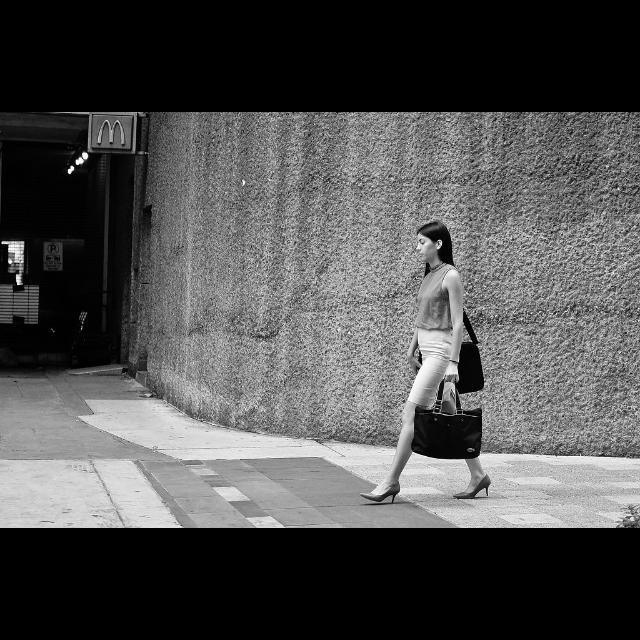bottom: (409, 331, 449, 407)
handbag: (414, 382, 484, 456), (462, 310, 484, 392)
shoes: (359, 486, 403, 504), (454, 480, 490, 498)
top: (418, 266, 454, 330)
